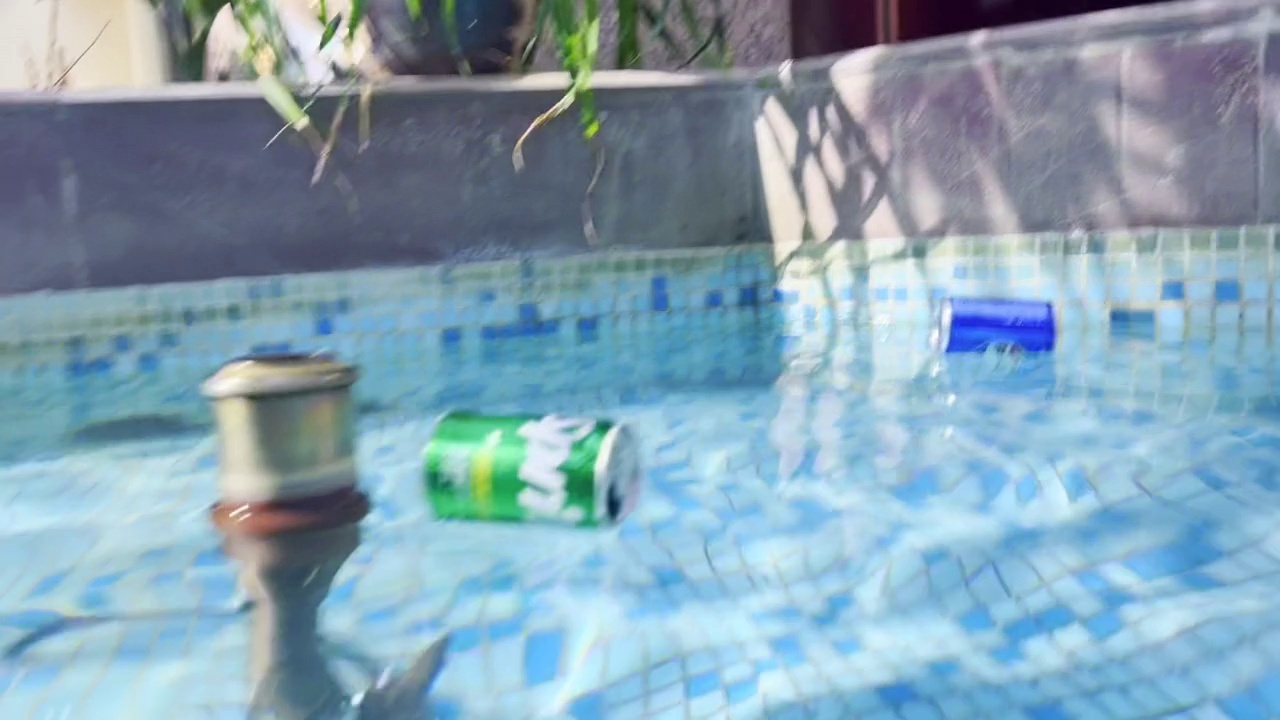debris: (415, 398, 645, 539), (926, 286, 1068, 364)
